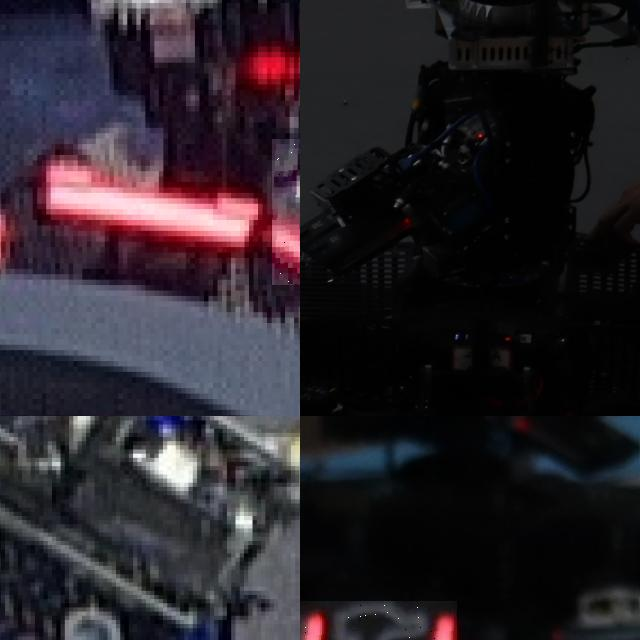R3: (271, 138, 300, 285)
Rs: (300, 600, 457, 640)
